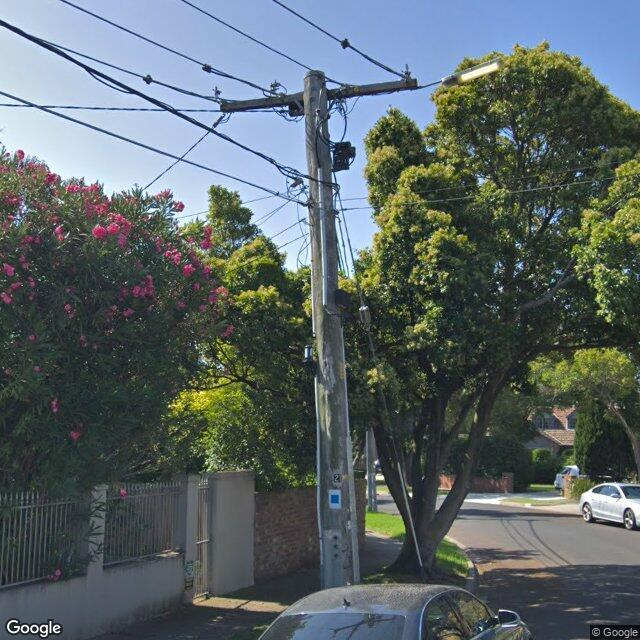crossarm: (220, 78, 418, 113)
streetlight: (417, 58, 505, 89)
timber-pole: (303, 71, 354, 591)
